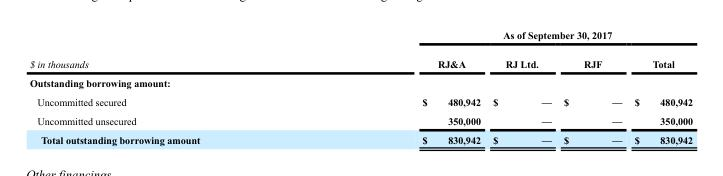table: (28, 29, 692, 145)
table column: (28, 29, 310, 145), (310, 29, 486, 145), (556, 29, 627, 145), (486, 29, 556, 145), (627, 29, 692, 145)
table column header: (28, 29, 692, 73)
table projected row header: (28, 73, 692, 92)
table row: (28, 49, 692, 73), (28, 29, 692, 49), (28, 73, 692, 92), (28, 110, 692, 129), (28, 92, 692, 110), (28, 129, 692, 145)
table spanning cell: (28, 29, 310, 73), (310, 29, 692, 49)
